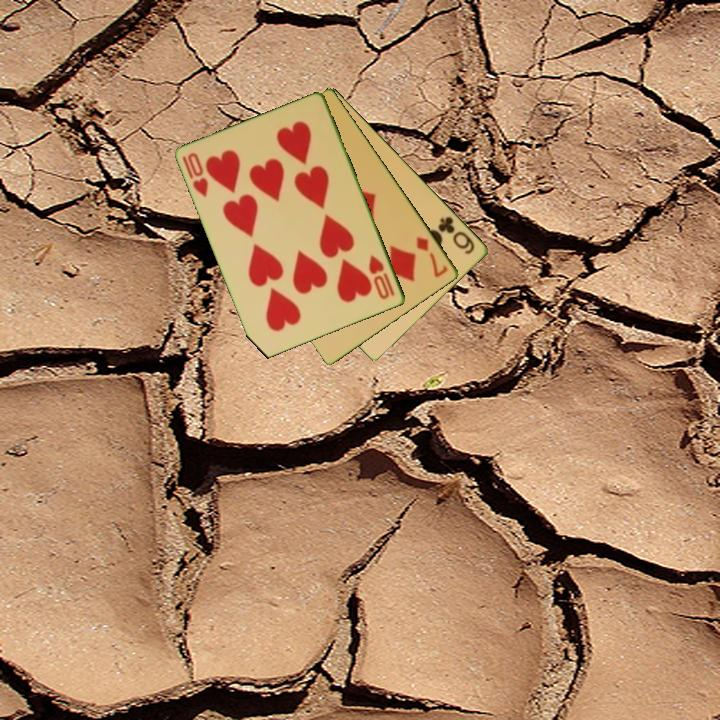10h: (365, 252, 398, 303), (179, 149, 212, 200)
6c: (435, 213, 478, 257)
7d: (413, 233, 451, 281)
